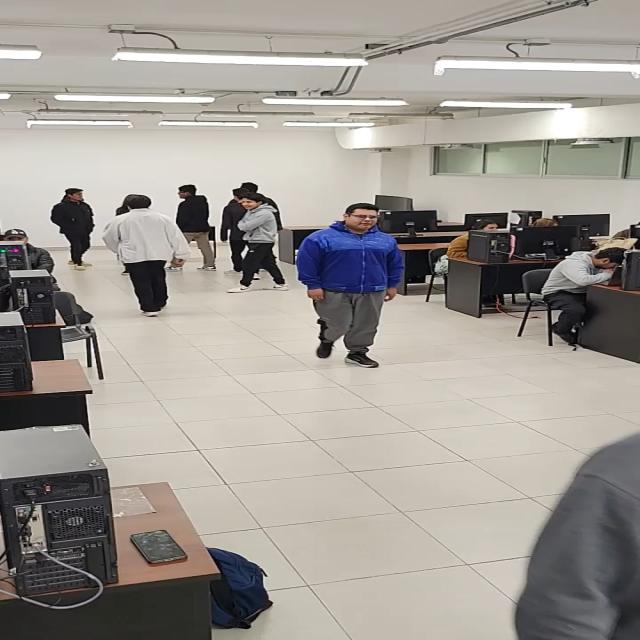Persona: (296, 203, 404, 369), (102, 194, 193, 317), (227, 192, 291, 292), (162, 184, 220, 273), (51, 188, 98, 270)
